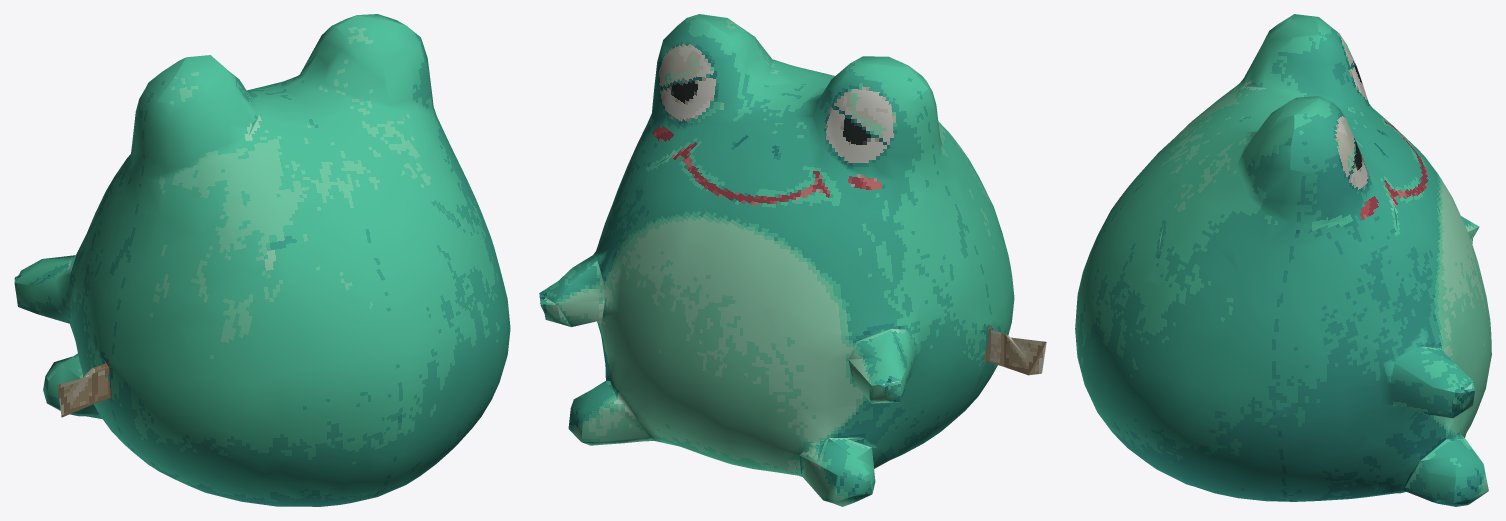
File: wear_frog.glb
3 renders of one model, left to right at view 1: azimuth 30°, elevation 25°; view 2: azimuth 150°, elevation 25°; view 3: azimuth 270°, elevation 25°, orthographic. The views are drawn at different scales.
Visible parts, largest first — view 1: mesh; view 2: mesh; view 3: mesh.
Boxes of the visible parts, x1=… form: mesh: x1=14, y1=14, x2=510, y2=506; mesh: x1=539, y1=14, x2=1046, y2=506; mesh: x1=1075, y1=14, x2=1491, y2=506.
Size of the model in its own units: 0.2178 by 0.2 by 0.1884.
Materials: 1 (1 with a texture image).
